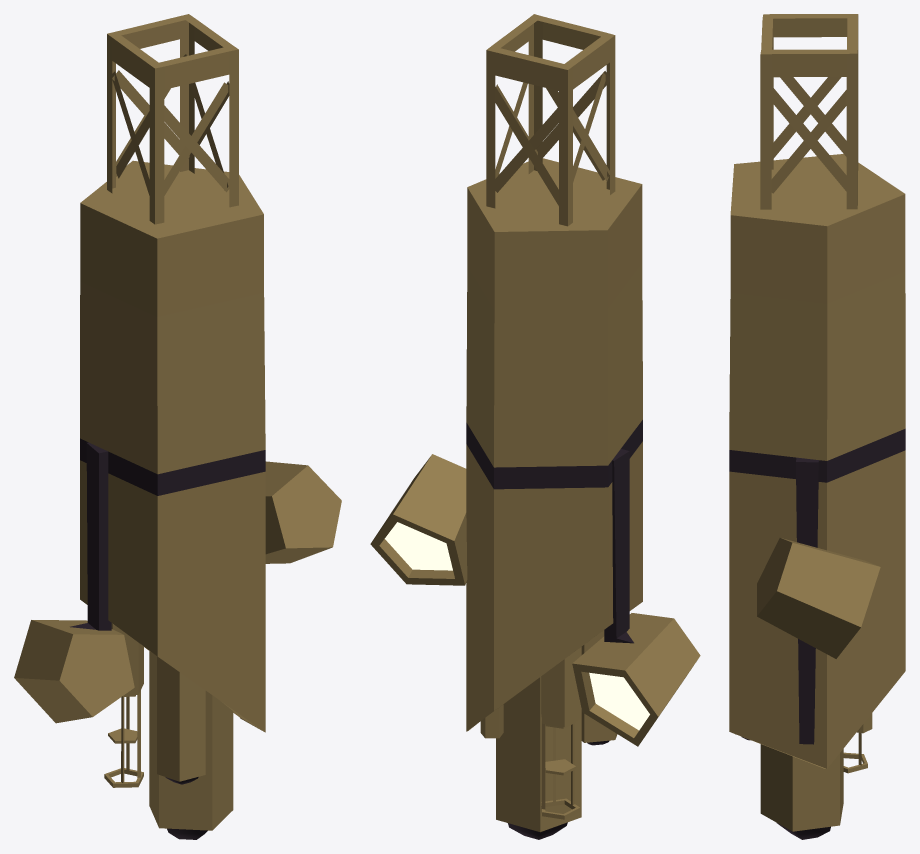
The model's file is DS_Drone1_a1.glb.
3 views of the same model, side by side, from view 1: azimuth 30°, elevation 25°; view 2: azimuth 150°, elevation 25°; view 3: azimuth 270°, elevation 25° (orthographic).
Parts seen in each view (by area): view 1: Drone.003; view 2: Drone.003; view 3: Drone.003.
Boxes of the visible parts, x1,y1,x2,y2 form: Drone.003: (14,14,341,839); Drone.003: (370,14,700,839); Drone.003: (729,14,905,839).
Size of the model in its own units: 0.6907 by 1.83 by 0.369.
